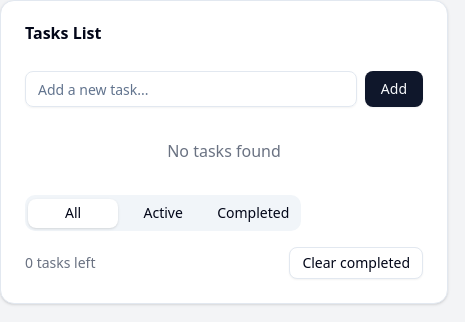
TodoFeature › toggles todo status
Type "Test task" into the field with placeholder "Add a new task..." at {"x": 191, "y": 89}, box [25, 71, 357, 107]
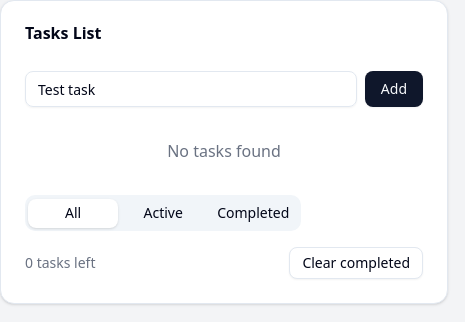
Click the button "Add" at {"x": 394, "y": 89}, box [365, 71, 423, 107]
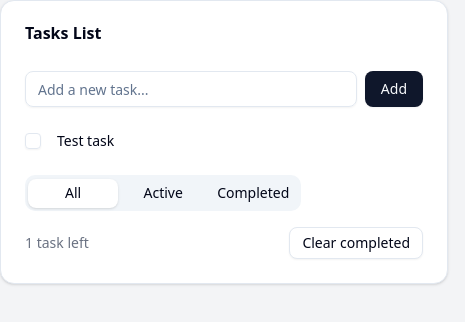
Click the checkbox at {"x": 33, "y": 141}, box [25, 133, 41, 149]
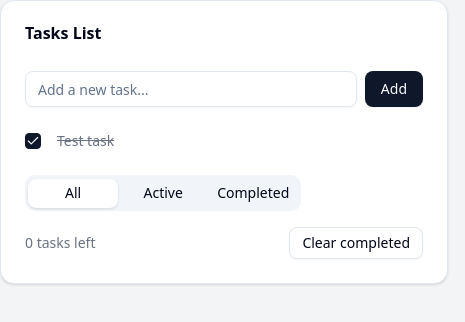
Expected: the checkbox is checked, [25, 133, 41, 149]
Expected: the text "0 tasks left" is shown, [25, 233, 96, 253]
